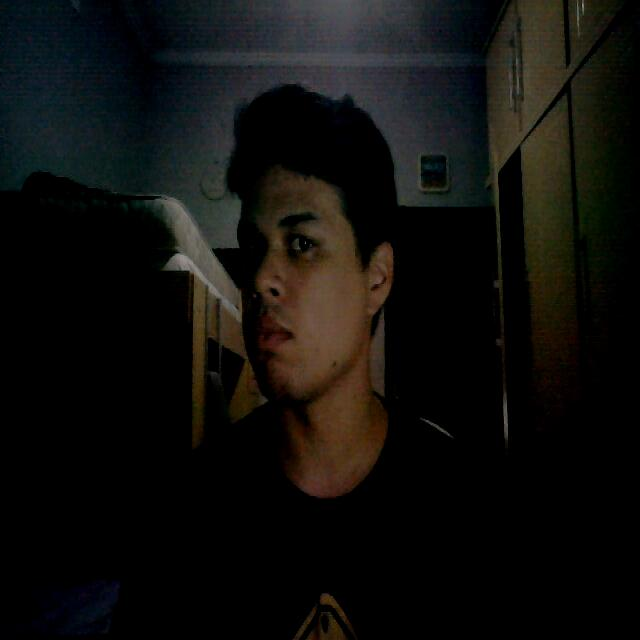acordado: (230, 165, 400, 408)
